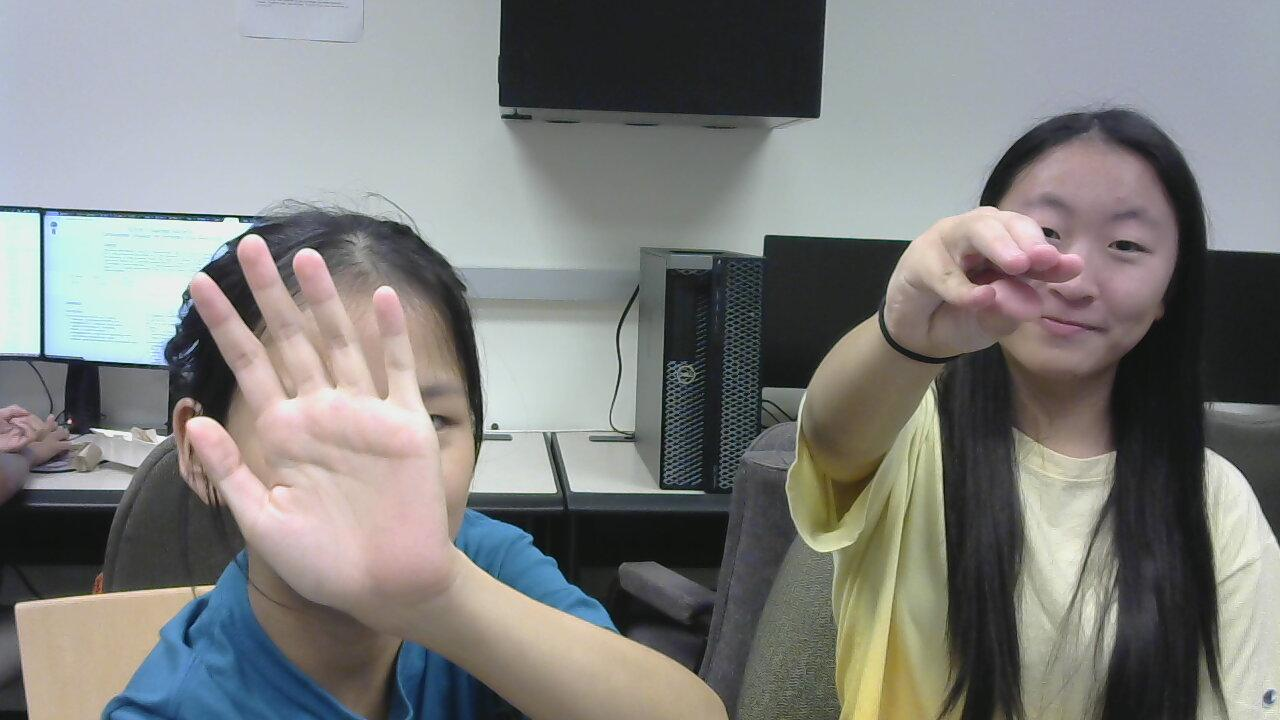hands: (166, 247, 484, 604), (888, 187, 1075, 390)
